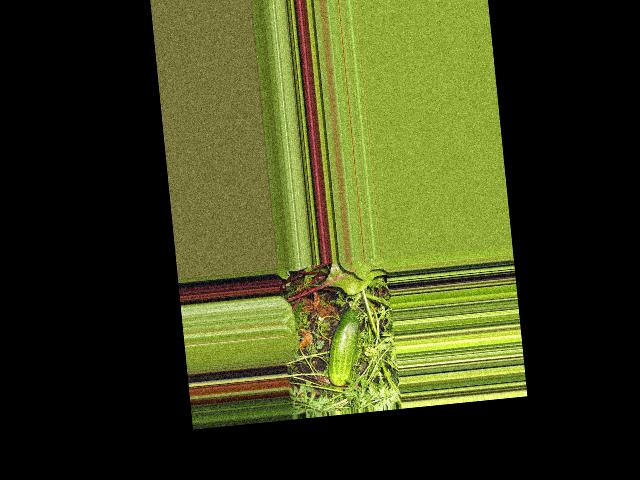cucumber: (322, 306, 367, 385)
